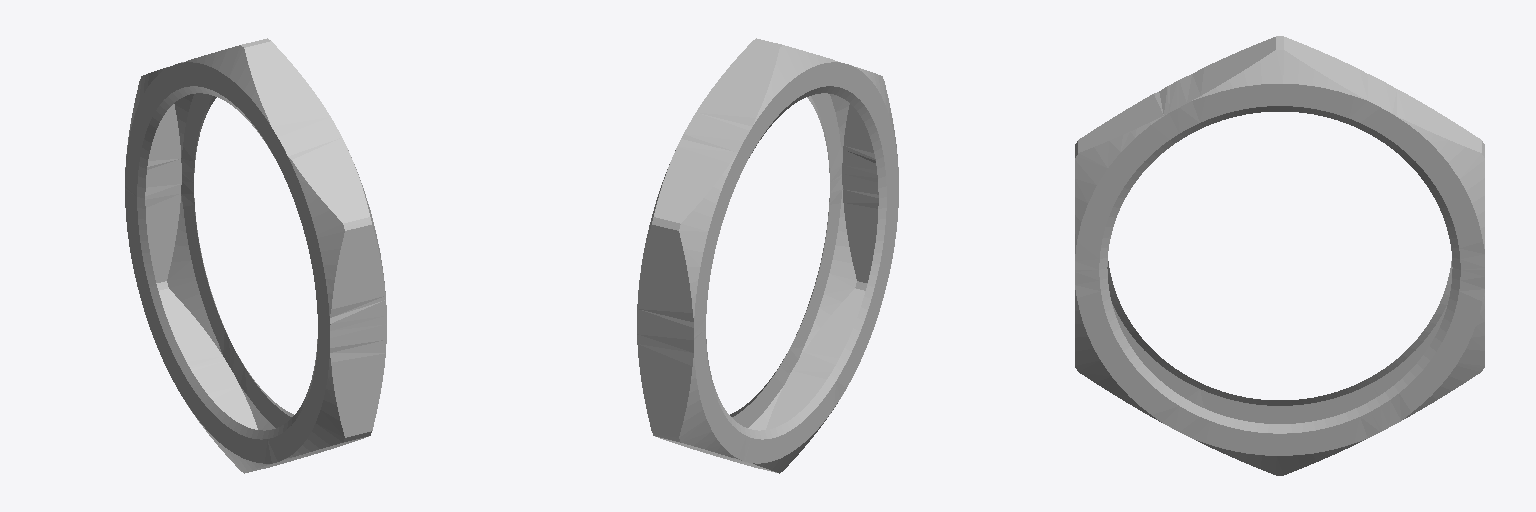
Rendered from torso_l3_2.obj.
The picture shows the model from 3 angles: view 1: azimuth 30°, elevation 25°; view 2: azimuth 150°, elevation 25°; view 3: azimuth 270°, elevation 25°; orthographic projection.
Bounding box in the file's own units: 0.004 × 0.0286 × 0.025.